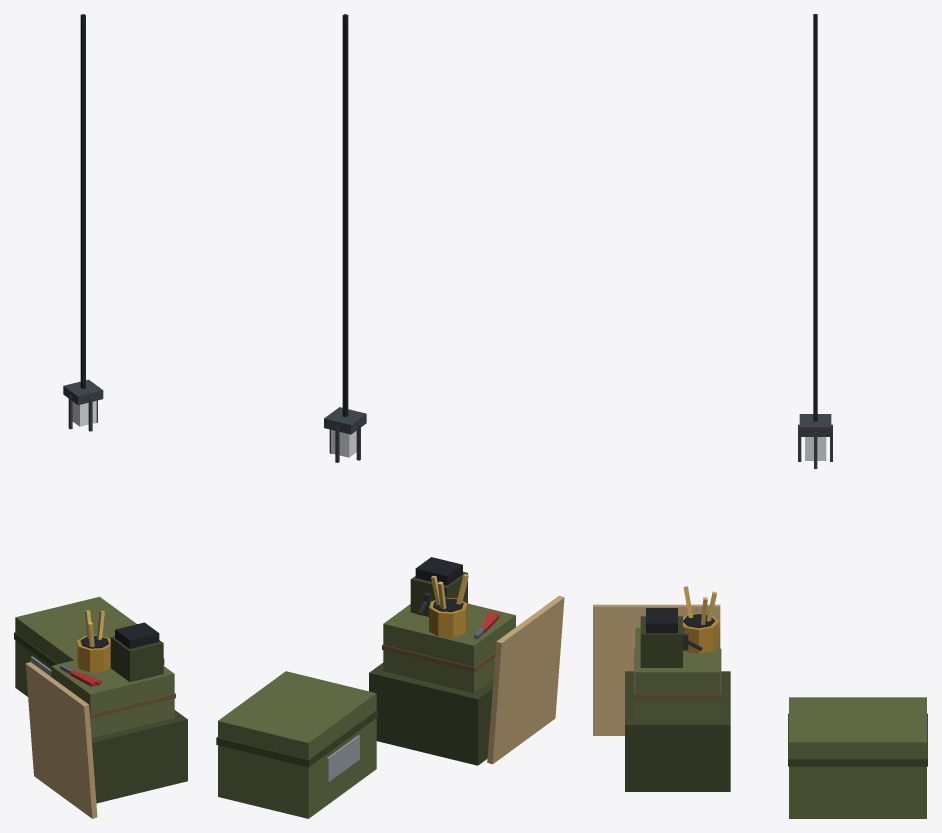
The model's file is prop_vendor_callins.fbx.
3 views of the same model, side by side, from view 1: azimuth 30°, elevation 25°; view 2: azimuth 150°, elevation 25°; view 3: azimuth 270°, elevation 25° (orthographic). The views are drawn at different scales.
Visible parts, largest first — view 1: prop_vendor_callins; view 2: prop_vendor_callins; view 3: prop_vendor_callins.
Part boxes in pixels (left/top/right/bottom): prop_vendor_callins: left=14, top=14, right=187, bottom=818; prop_vendor_callins: left=216, top=14, right=564, bottom=818; prop_vendor_callins: left=593, top=14, right=927, bottom=818.
Bounding box in the file's own units: 403 × 1600 × 632.
